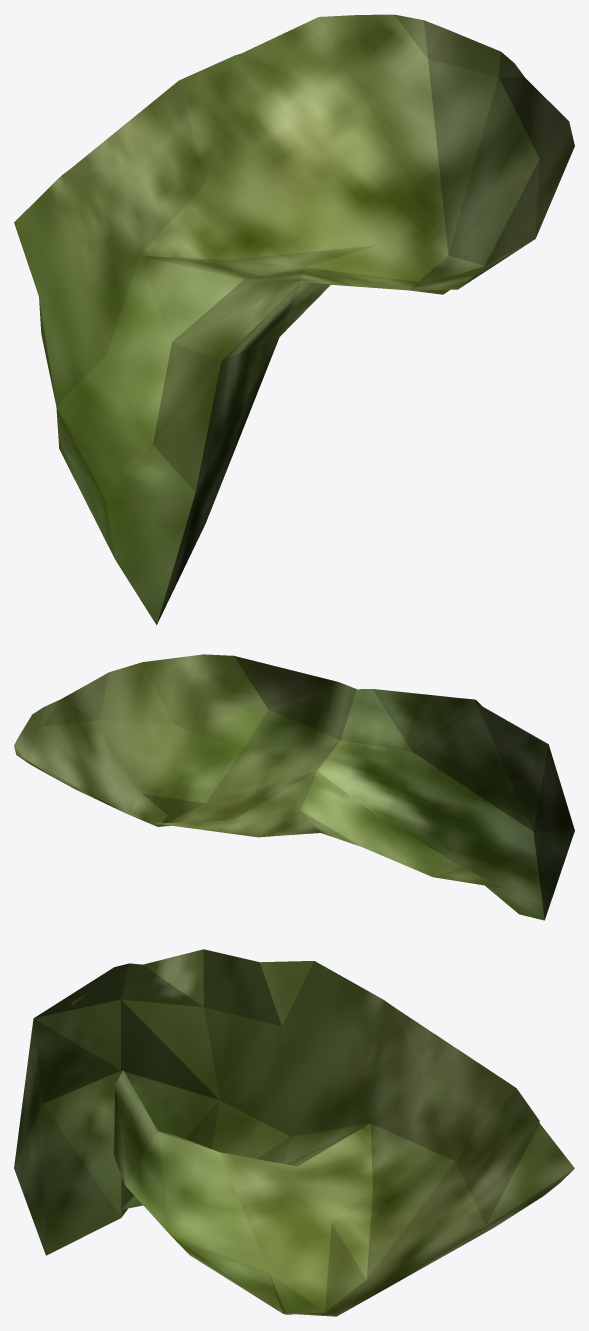
3 renders of one model, top to bottom at view 1: azimuth 30°, elevation 25°; view 2: azimuth 150°, elevation 25°; view 3: azimuth 270°, elevation 25°, orthographic. The views are drawn at different scales.
Size of the model in its own units: 0.622 by 0.3022 by 0.5243.
Materials: 1 (1 with a texture image).
